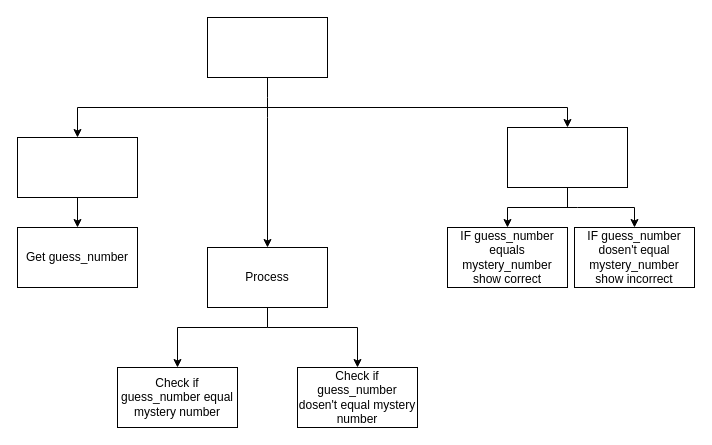
Image size: 712x445. Some labels were removed from this diagram. Each missing label, with the centre of its shape:
"Input" goes at point (77, 167).
"Output" goes at point (567, 157).
"Pizza Total" goes at point (267, 47).
